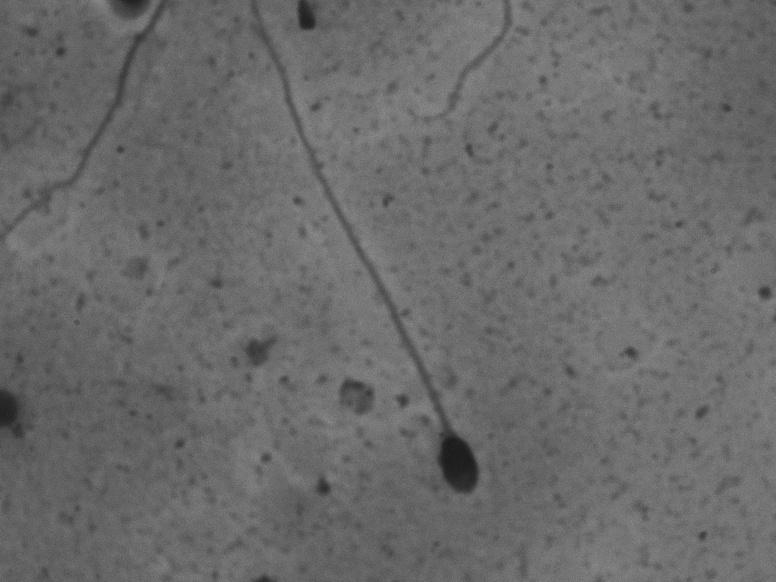Normal: (237, 7, 500, 507)
